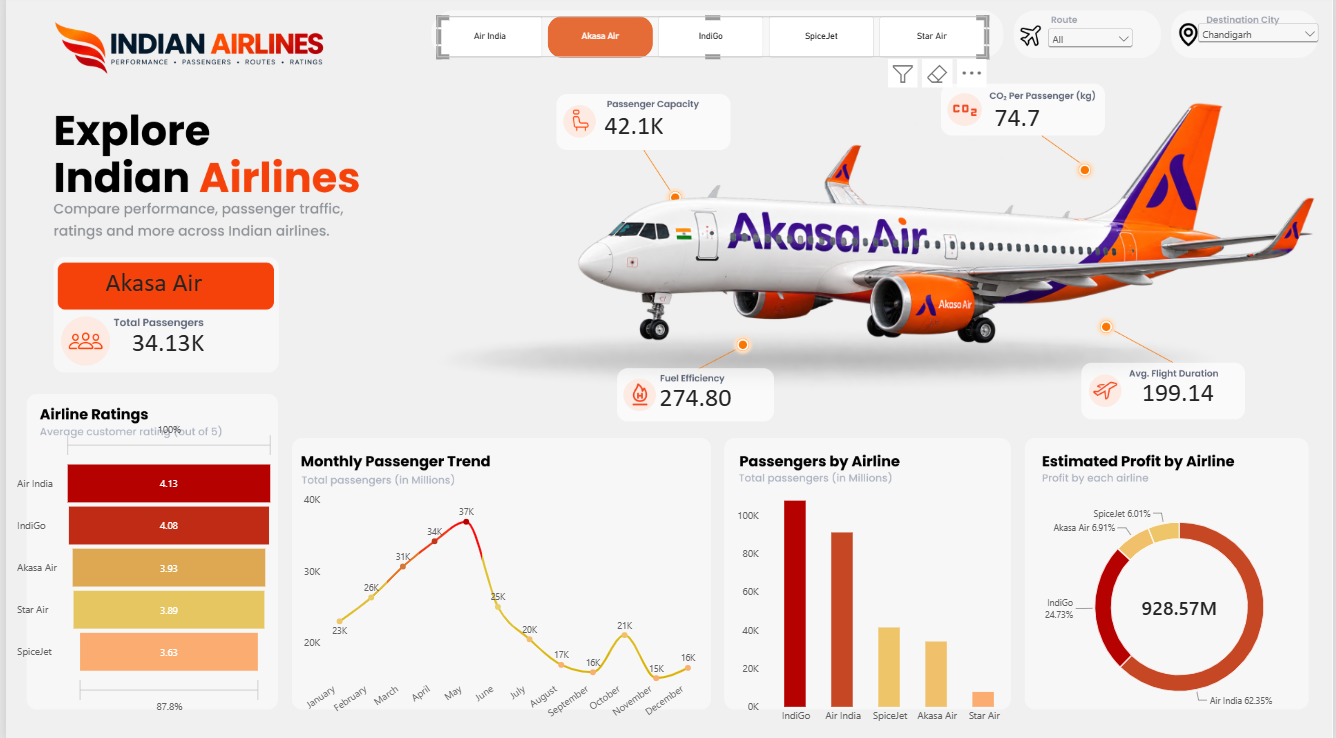

This screenshot's page, from the dashboard's own definition file:
{"tool":"powerbi","page":{"name":"Page 1","canvas":[1920,1080],"ordinal":0},"visuals":[{"type":"clusteredBarChart","fields":{"Category":["Flight_Data.Airline"],"Y":["Avg(Flight_Data.Customer_Rating)"]},"box":[0,598,446,462],"z":0},{"type":"clusteredColumnChart","fields":{"Category":["Flight_Data.Airline"],"Y":["Sum(Flight_Data.Passengers)"]},"box":[1042,702,434,372],"z":1000},{"type":"lineChart","fields":{"Category":["Flight_Data.Date.Variation.Date Hierarchy.Year","Flight_Data.Date.Variation.Date Hierarchy.Quarter","Flight_Data.Date.Variation.Date Hierarchy.Month"],"Y":["Sum(Flight_Data.Passengers)"]},"box":[404,706,618,374],"z":2000},{"type":"donutChart","fields":{"Category":["Flight_Data.Airline"],"Y":["Sum(Flight_Data.Estimated_Profit_INR)"]},"box":[1476,692,444,390],"z":3000},{"type":"advancedSlicerVisual","fields":{"Values":["Aircraft_Images.Airline"]},"box":[624,30,796,60],"z":4000},{"type":"image","box":[797.6,90.2,1095.1,529.3],"z":5000},{"type":"cardVisual","fields":{"Data":["Min(Aircraft_Images.Airline)"]},"box":[112,386,254,64],"z":6000},{"type":"cardVisual","fields":{"Data":["Measure Table.Total Passenger"]},"box":[150,468,180,72],"z":7000},{"type":"cardVisual","fields":{"Data":["Measure Table.Seat Capacity"]},"box":[834,158,254,64],"z":8000},{"type":"cardVisual","fields":{"Data":["Measure Table.CO2 per Passenger"]},"box":[1398,134,254,88],"z":9000},{"type":"cardVisual","fields":{"Data":["Measure Table.fule Efficiency"]},"box":[914,548,254,72],"z":10000},{"type":"cardVisual","fields":{"Data":["Measure Table.Avg flight duration"]},"box":[1612,534,188,86],"z":11000}]}

Visuals, with their boxes in screenshot pixels (x1, y1, x2, y2), scaled from the page's 1920x1080 canvas onto the 1336x738 screenshot:
clusteredBarChart - Flight_Data.Airline x Avg(Flight_Data.Customer_Rating): bbox(0, 409, 310, 724)
clusteredColumnChart - Flight_Data.Airline x Sum(Flight_Data.Passengers): bbox(725, 480, 1027, 734)
lineChart - Flight_Data.Date.Variation.Date Hierarchy.Year x Flight_Data.Date.Variation.Date Hierarchy.Quarter: bbox(281, 482, 711, 737)
donutChart - Flight_Data.Airline x Sum(Flight_Data.Estimated_Profit_INR): bbox(1027, 473, 1335, 737)
advancedSlicerVisual - Aircraft_Images.Airline: bbox(434, 20, 988, 62)
image: bbox(555, 62, 1317, 423)
cardVisual - Min(Aircraft_Images.Airline): bbox(78, 264, 255, 308)
cardVisual - Measure Table.Total Passenger: bbox(104, 320, 230, 369)
cardVisual - Measure Table.Seat Capacity: bbox(580, 108, 757, 152)
cardVisual - Measure Table.CO2 per Passenger: bbox(973, 92, 1150, 152)
cardVisual - Measure Table.fule Efficiency: bbox(636, 374, 813, 424)
cardVisual - Measure Table.Avg flight duration: bbox(1122, 365, 1252, 424)
